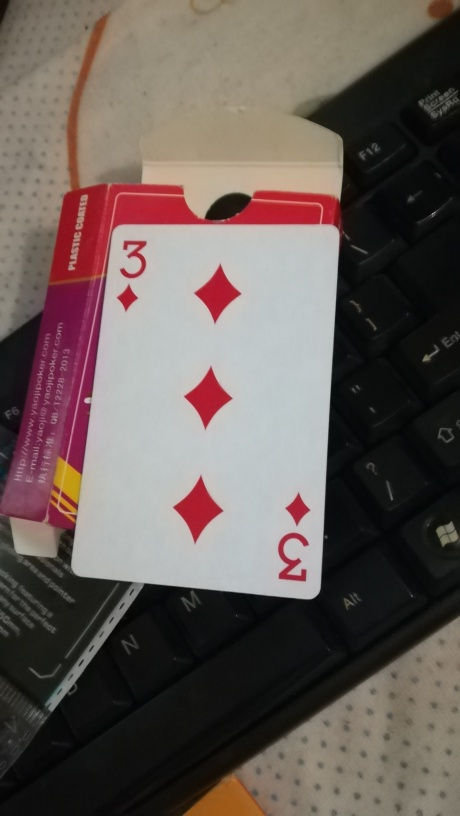fk 3: (71, 221, 346, 605)
